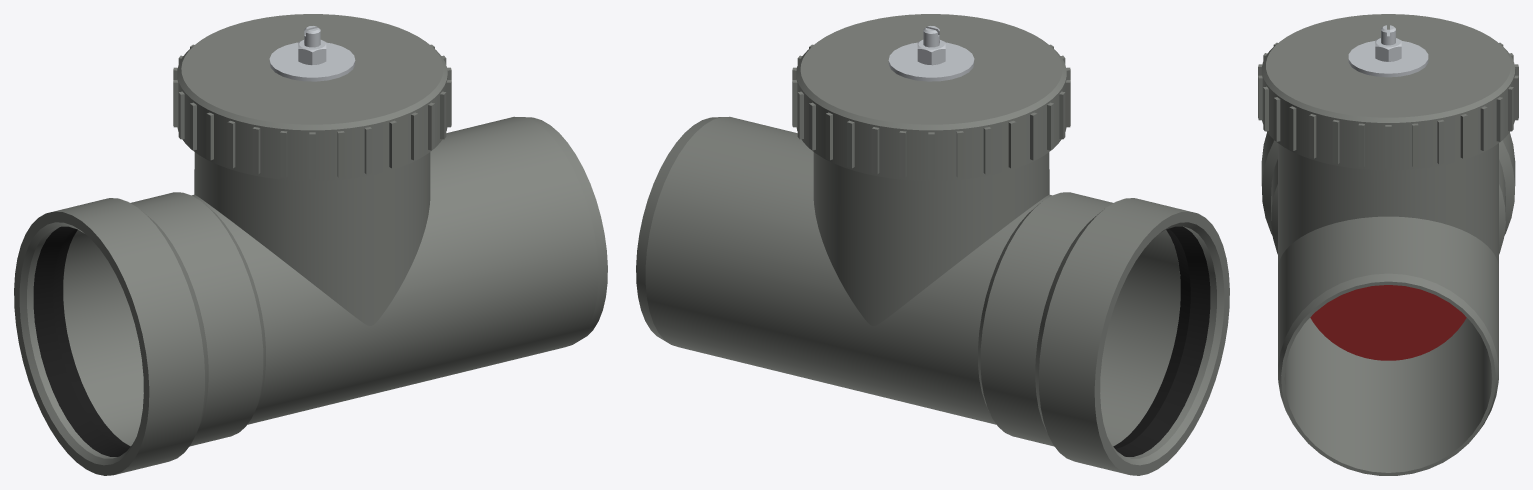
The picture shows the model from 3 angles, left to right: view 1: azimuth 30°, elevation 25°; view 2: azimuth 150°, elevation 25°; view 3: azimuth 270°, elevation 25°; orthographic projection. The views are drawn at different scales.
Parts seen in each view (by area): view 1: b3, b7, b4, b44; view 2: b3, b7, b4, b44; view 3: b3, b7, b23, b44, b46.
Boxes of the visible parts, box(x1,y1,x2,y2) form: b3: box(14, 116, 607, 475); b7: box(173, 14, 451, 180); b4: box(33, 226, 130, 456); b44: box(269, 42, 355, 81); b3: box(636, 116, 1229, 475); b7: box(792, 14, 1070, 180); b4: box(1113, 226, 1210, 456); b44: box(888, 42, 974, 81); b3: box(1261, 132, 1515, 475); b7: box(1258, 14, 1518, 170); b23: box(1310, 285, 1466, 360); b44: box(1348, 41, 1428, 77); b46: box(1375, 38, 1401, 61).
Bounding box in the file's own units: 252 × 196 × 130.
